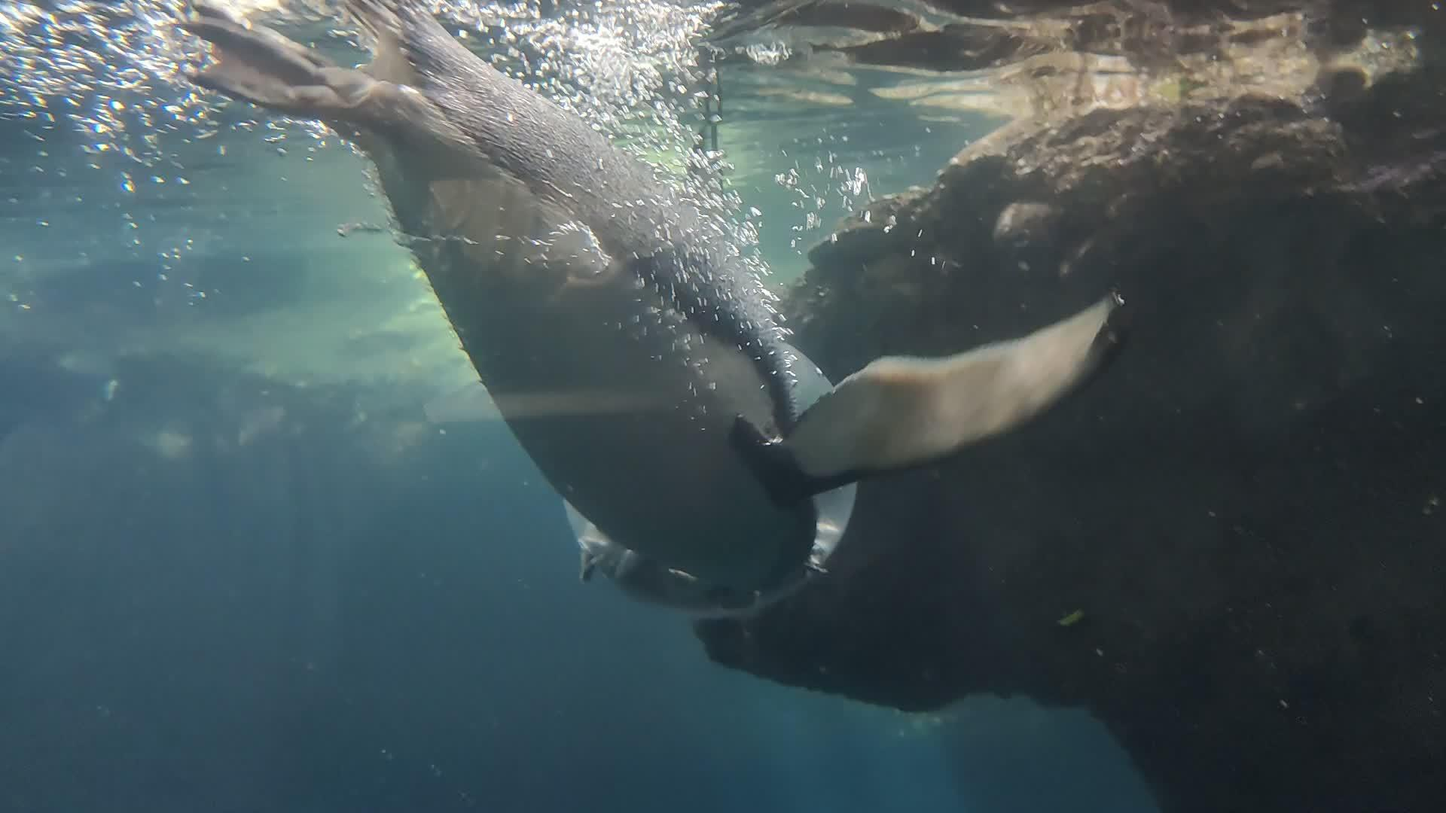apple: (167, 0, 1131, 593)
